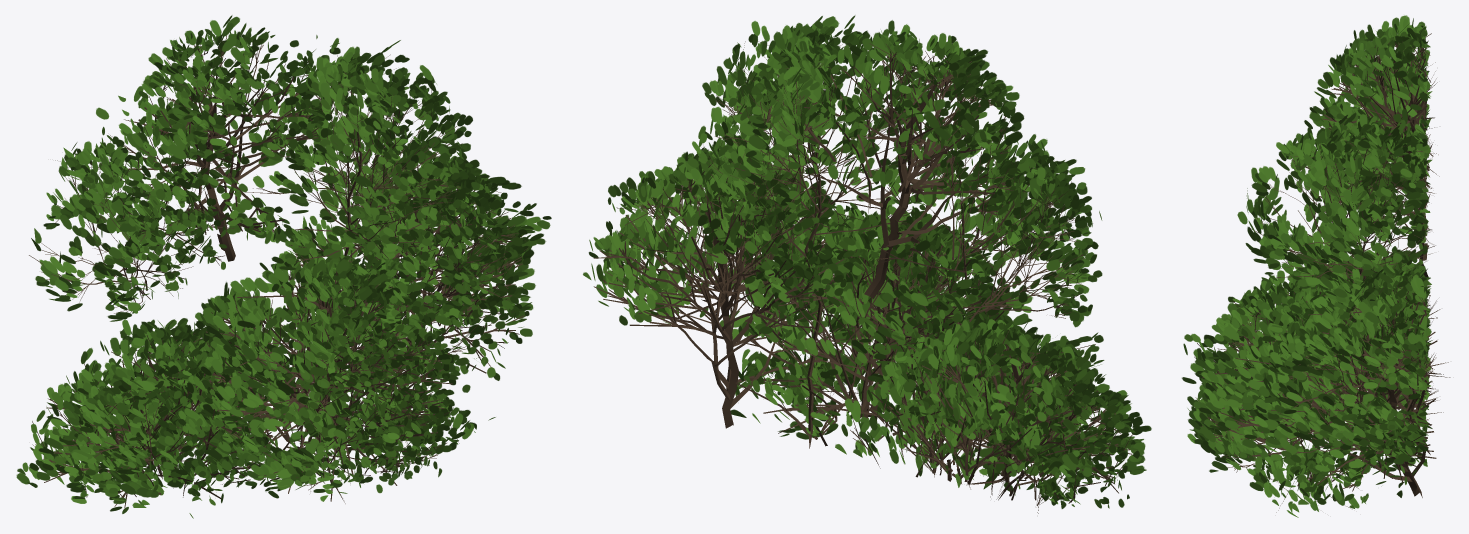
3 renders of one model, left to right at view 1: azimuth 30°, elevation 25°; view 2: azimuth 150°, elevation 25°; view 3: azimuth 270°, elevation 25°, orthographic. The views are drawn at different scales.
Parts seen in each view (by area): view 1: oak 01.001_trunk_Mat.001_0.250; view 2: oak 01.001_trunk_Mat.001_0.250; view 3: oak 01.001_trunk_Mat.001_0.250.
Boxes of the visible parts, bbox=[...] form: oak 01.001_trunk_Mat.001_0.250: bbox=[16, 15, 551, 518]; oak 01.001_trunk_Mat.001_0.250: bbox=[583, 15, 1151, 513]; oak 01.001_trunk_Mat.001_0.250: bbox=[1182, 15, 1450, 517].
Size of the model in its own units: 4.29 by 3.45 by 2.06.
2 materials, 1 textured.
